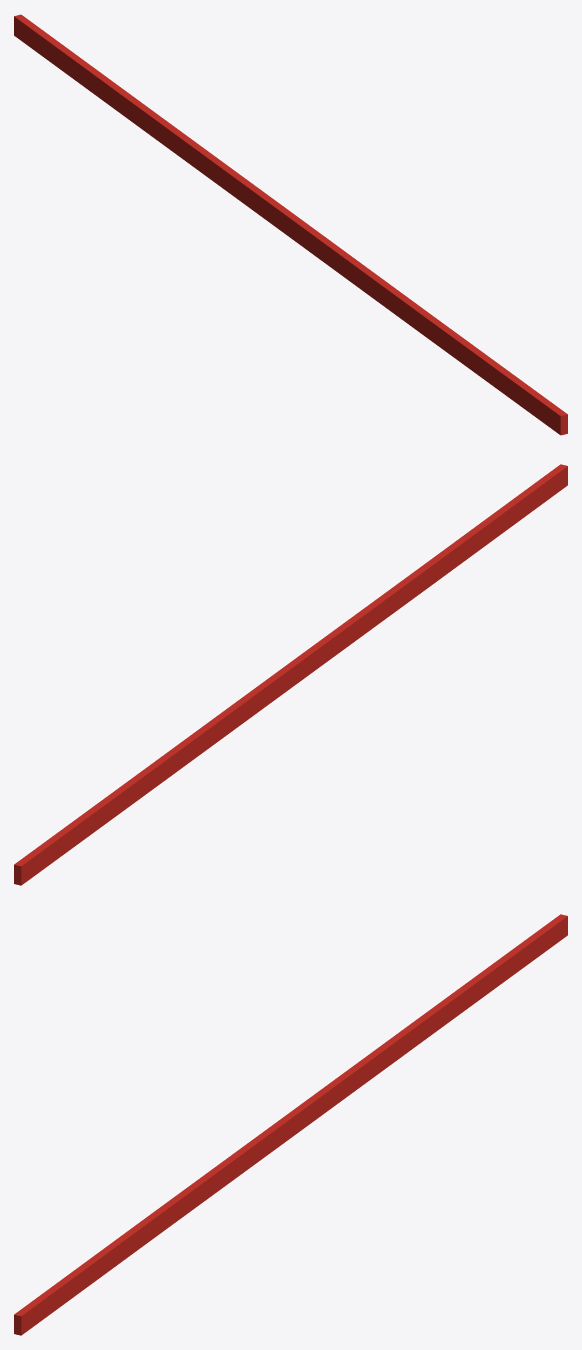
File: nur schnur kleiner (solidified).fbx
The picture shows the model from 3 angles, top to bottom: view 1: azimuth 30°, elevation 25°; view 2: azimuth 150°, elevation 25°; view 3: azimuth 330°, elevation 25°; orthographic projection.
Parts seen in each view (by area): view 1: thread; view 2: thread; view 3: thread.
Part boxes in pixels (x1=…): thread: x1=14, y1=14, x2=567, y2=435; thread: x1=14, y1=464, x2=567, y2=885; thread: x1=14, y1=914, x2=567, y2=1335.
Size of the model in its own units: 1.04 by 2.53 by 130.
